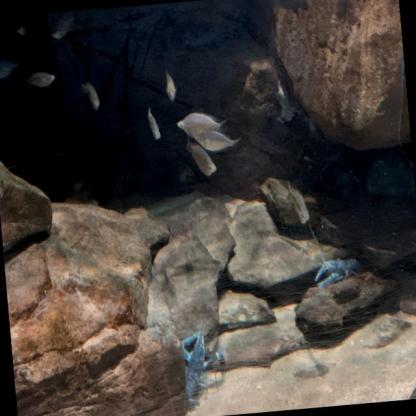fish: (175, 108, 229, 142), (182, 135, 218, 182), (193, 127, 244, 156), (286, 180, 310, 225), (78, 76, 102, 114), (20, 69, 57, 92), (144, 104, 163, 144), (162, 67, 180, 104), (0, 55, 22, 83), (48, 28, 68, 44)
